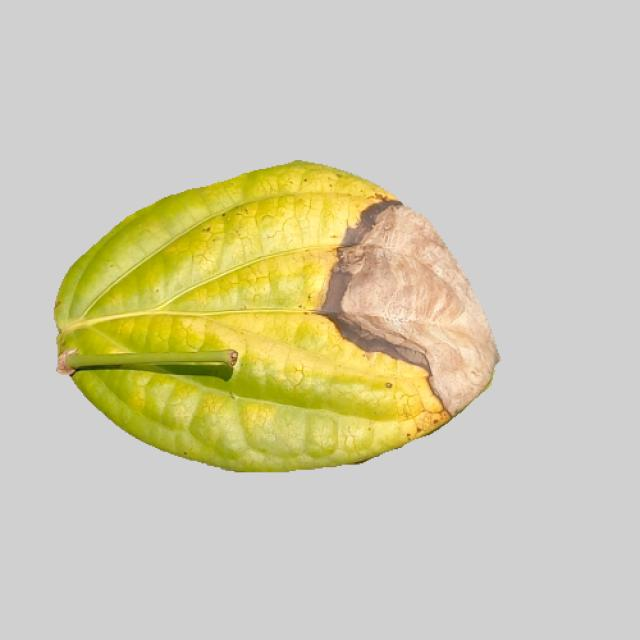leaf-blight: (45, 162, 499, 472)
